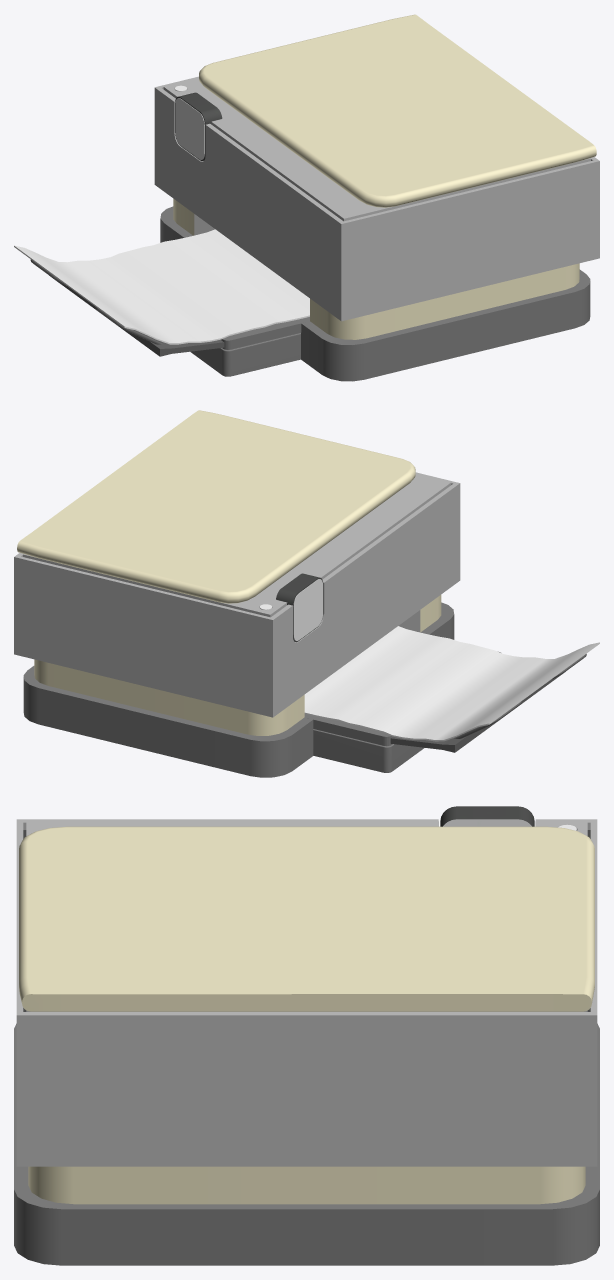
File: ticket_luggage_printer.glb
3 renders of one model, top to bottom at view 1: azimuth 30°, elevation 25°; view 2: azimuth 150°, elevation 25°; view 3: azimuth 270°, elevation 25°, orthographic. The views are drawn at different scales.
Visible parts, largest first — view 1: Printer; view 2: Printer; view 3: Printer.
Part boxes in pixels (box(x1,y1,x2,y2)): Printer: box(14, 14, 599, 381); Printer: box(14, 410, 599, 777); Printer: box(14, 806, 599, 1265).
Bounding box in the file's own units: 0.2351 × 0.089 × 0.1753.
Materials: 1 (1 with a texture image).
